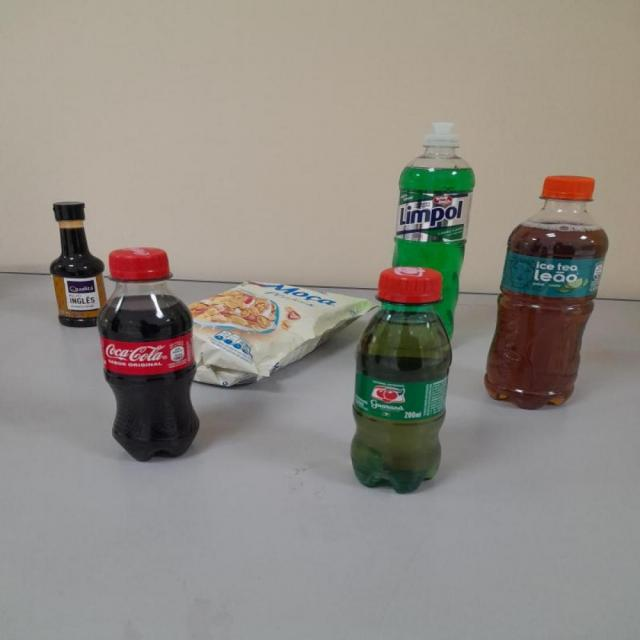Cleaner: (394, 122, 476, 335)
Coke: (95, 246, 204, 464)
CornFlakes: (192, 284, 376, 390)
EnglishSauce: (50, 202, 111, 328)
IceTea: (485, 176, 610, 411)
